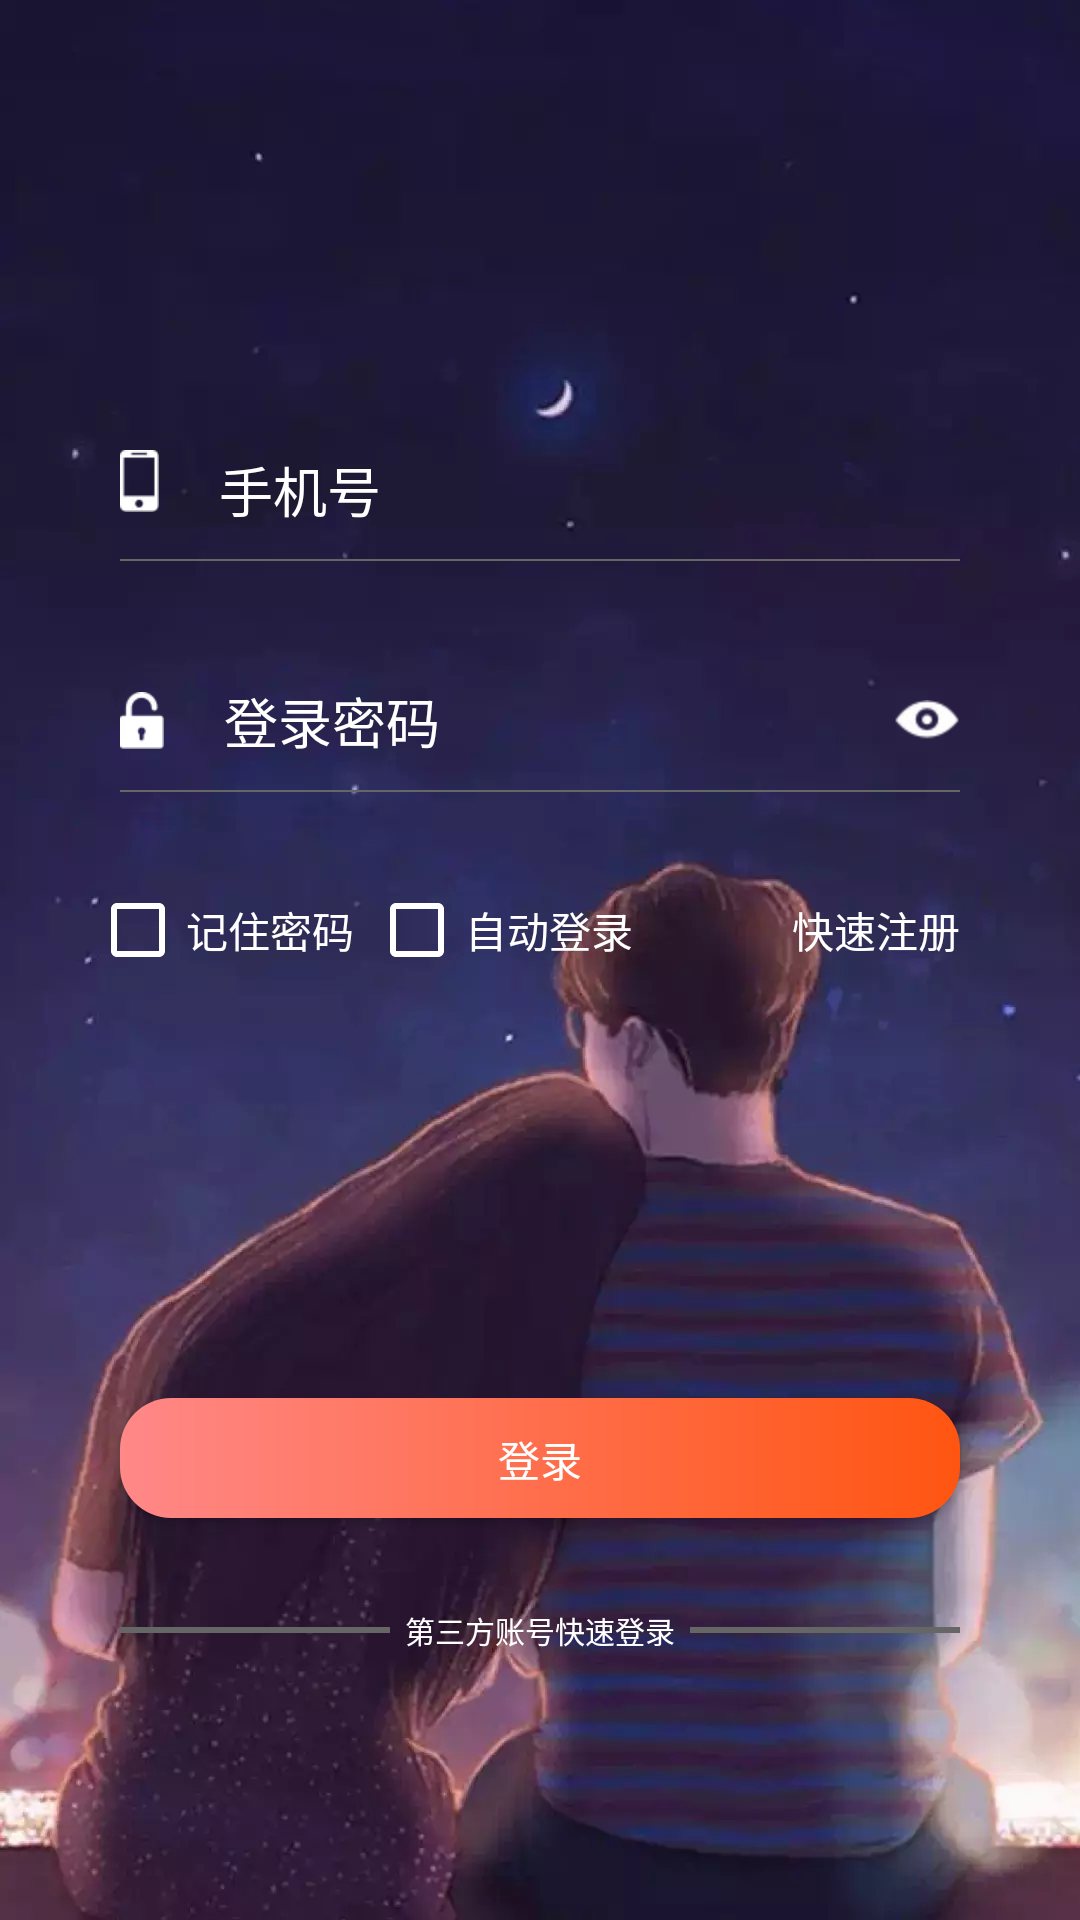

Locate icon controls on the screen. Image size 1080w x 1920h, boxes as region(x1, y1, x2, y2).
log eye: region(895, 700, 959, 739)
log lock: region(120, 692, 164, 749)
log phone: region(120, 450, 159, 512)
